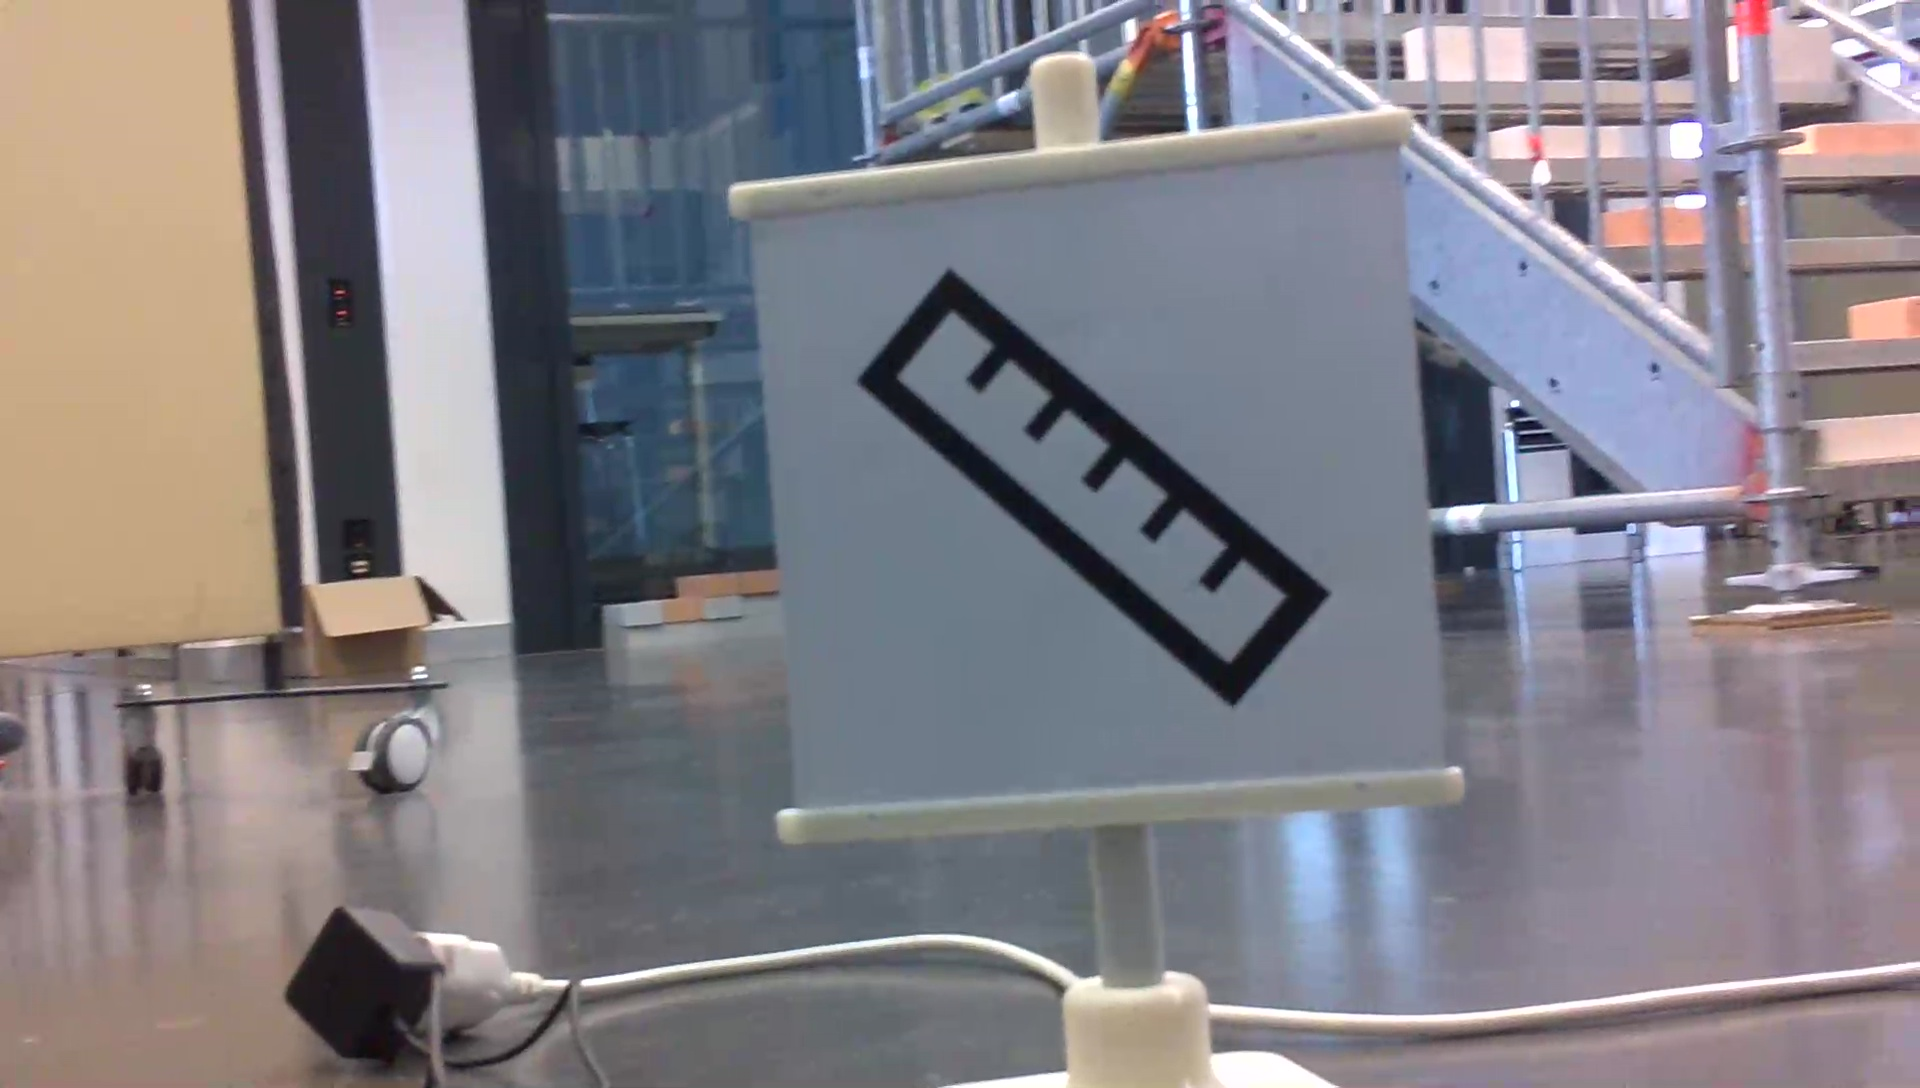brick: (1412, 29, 1534, 84), (1725, 20, 1846, 71), (1600, 210, 1731, 247), (1800, 119, 1920, 154), (1845, 287, 1920, 343), (1491, 124, 1656, 146)
ruler: (851, 236, 1344, 750)
